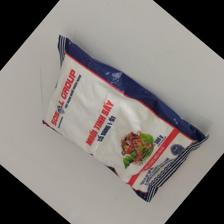Salt: (40, 35, 208, 208)
